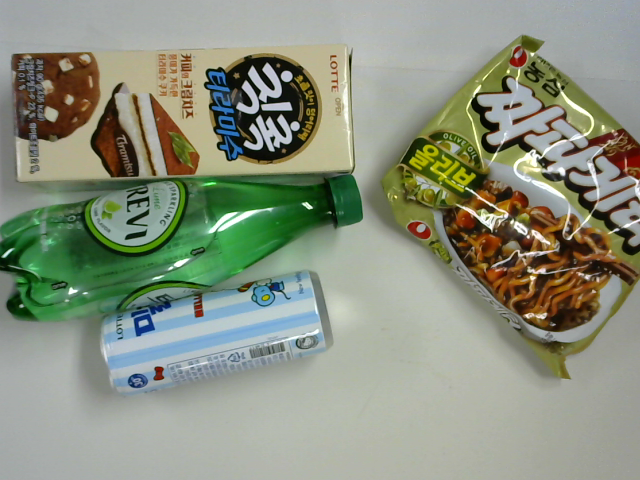Chicchok_Tiramisu: (8, 43, 358, 193)
Milkies_250ml: (97, 269, 334, 396)
Olive_Chapaghetti: (380, 35, 640, 378)
Treviraim_500ml: (1, 172, 363, 321)
